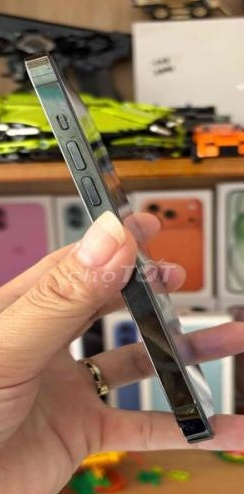scratch: (26, 59, 80, 139), (175, 413, 205, 436)
